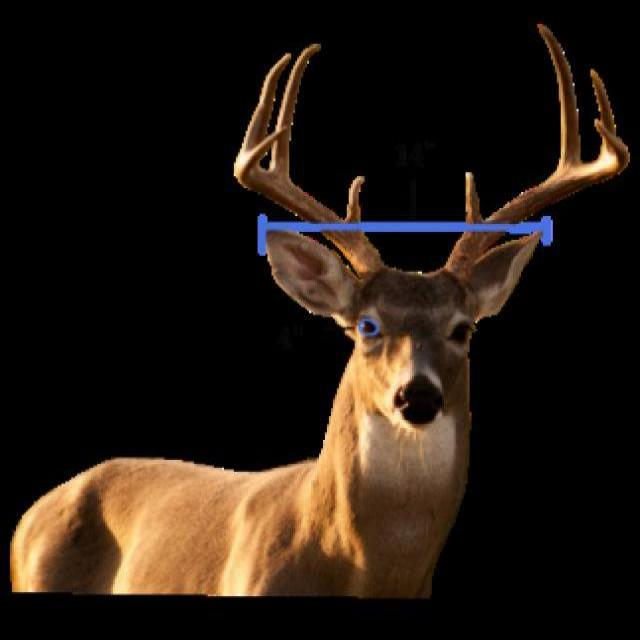deer: (16, 22, 624, 607)
